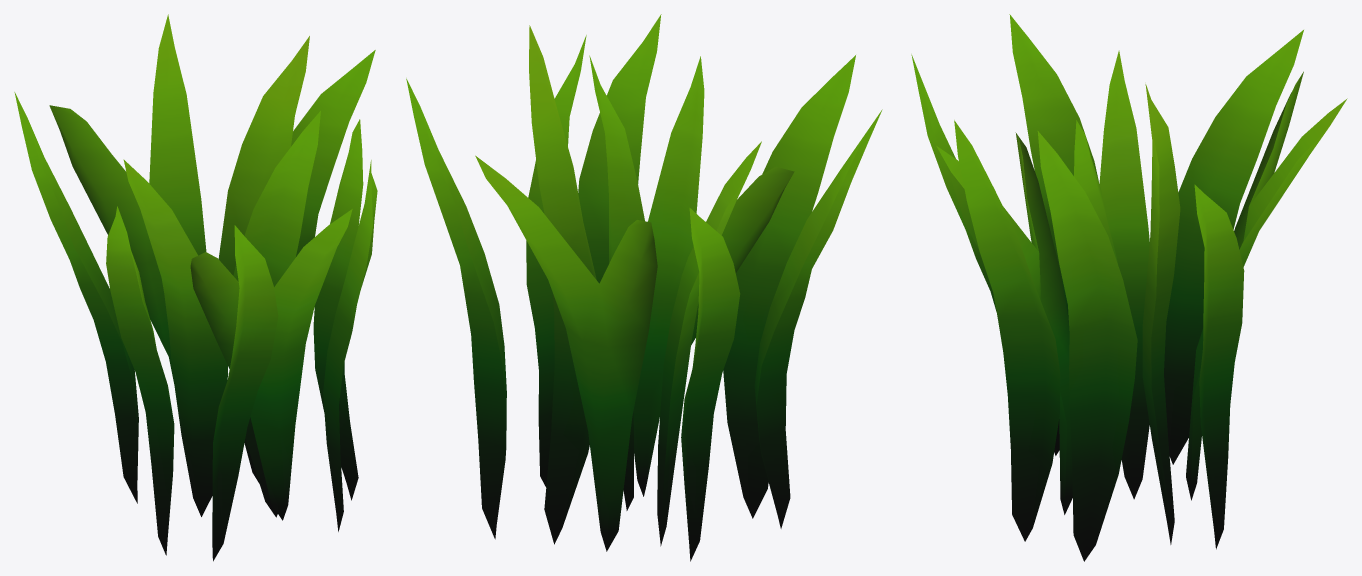
Rendered from grass-2.glb.
3 views of the same model, side by side, from view 1: azimuth 30°, elevation 25°; view 2: azimuth 150°, elevation 25°; view 3: azimuth 270°, elevation 25° (orthographic). The views are drawn at different scales.
Visible parts, largest first — view 1: Grass_Wide_Short; view 2: Grass_Wide_Short; view 3: Grass_Wide_Short.
Boxes of the visible parts, x1=… form: Grass_Wide_Short: x1=14, y1=14, x2=377, y2=561; Grass_Wide_Short: x1=406, y1=14, x2=882, y2=561; Grass_Wide_Short: x1=911, y1=14, x2=1347, y2=561.
Size of the model in its own units: 0.1987 by 0.25 by 0.2054.
1 material, 1 textured.
